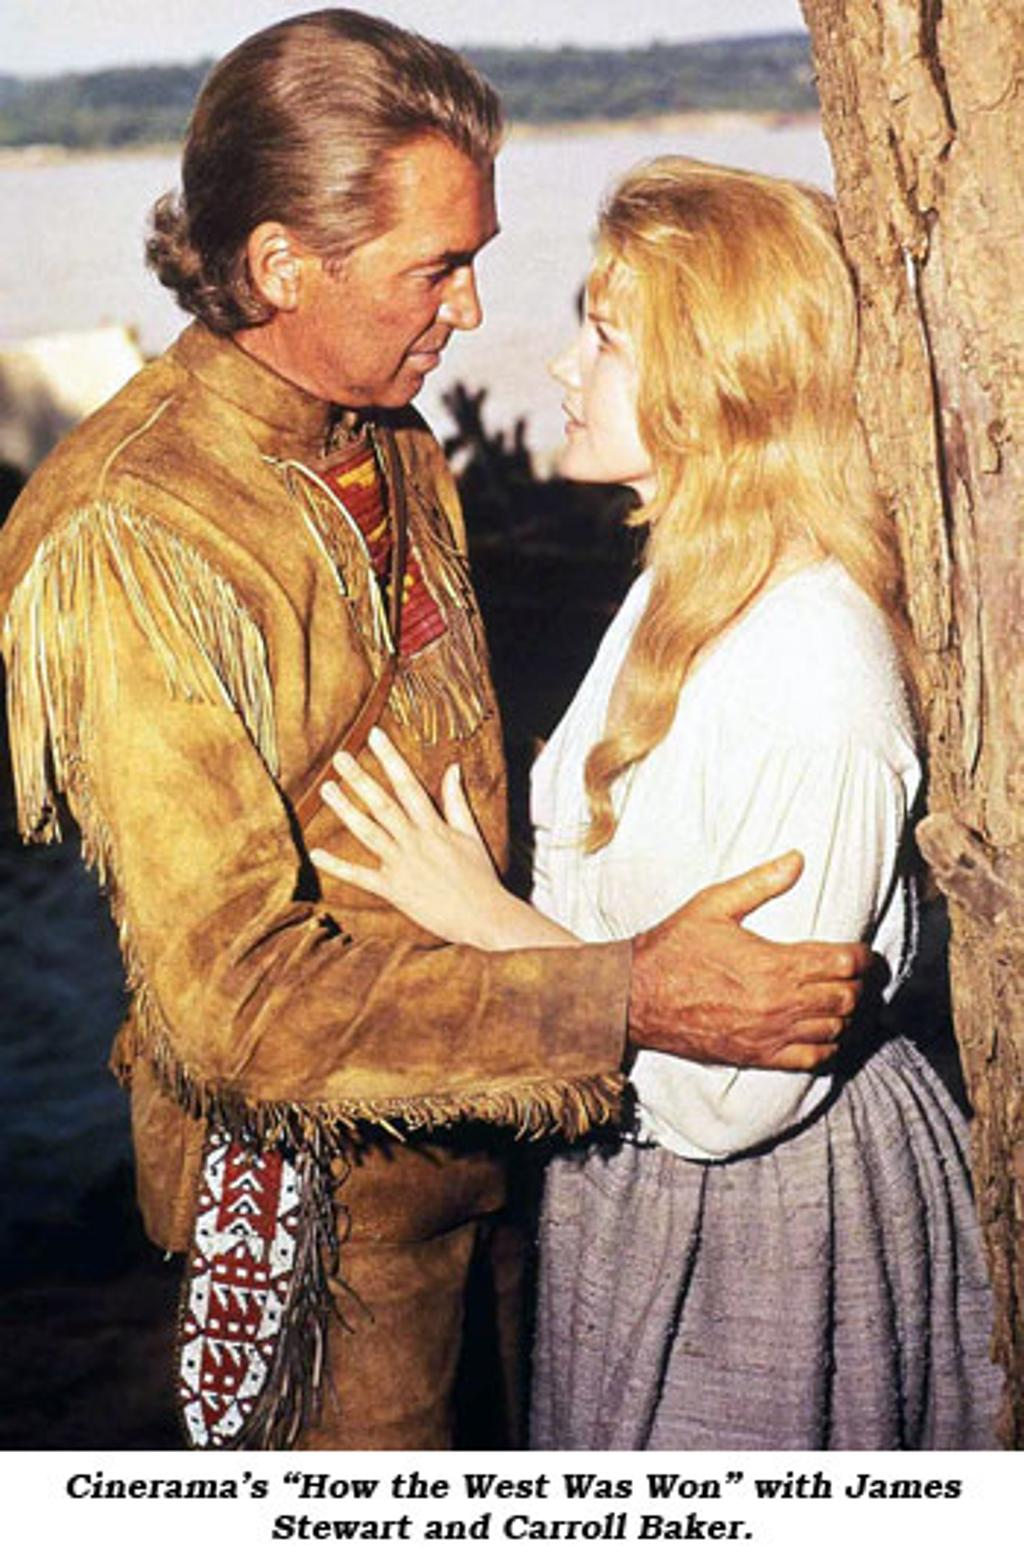face: (315, 141, 492, 416), (553, 229, 694, 474)
